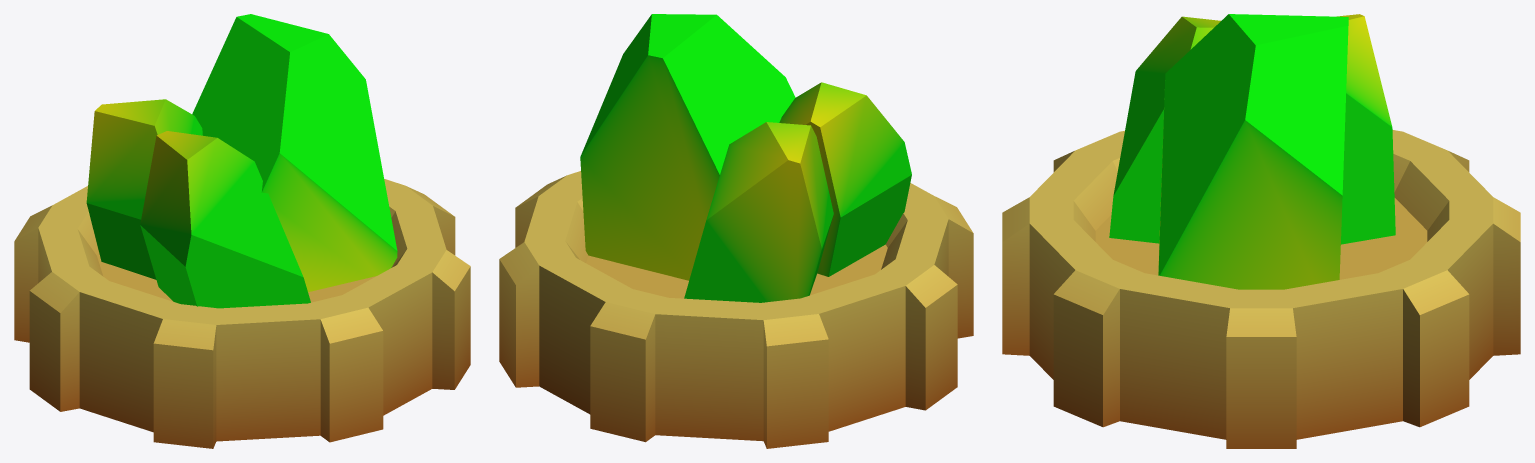
Rendered from зеленый слот .fbx.
3 views of the same model, side by side, from view 1: azimuth 30°, elevation 25°; view 2: azimuth 150°, elevation 25°; view 3: azimuth 270°, elevation 25° (orthographic). The views are drawn at different scales.
Parts seen in each view (by area): view 1: Cylinder.011, Cube.022; view 2: Cylinder.011, Cube.022; view 3: Cylinder.011, Cube.022.
Boxes of the visible parts, x1,y1,x2,y2 form: Cylinder.011: (14,179,470,448); Cube.022: (86,14,397,308); Cylinder.011: (499,171,973,448); Cube.022: (580,14,911,302); Cylinder.011: (1002,130,1520,448); Cube.022: (1109,14,1395,289).
Size of the model in its own units: 212 by 156 by 212.
